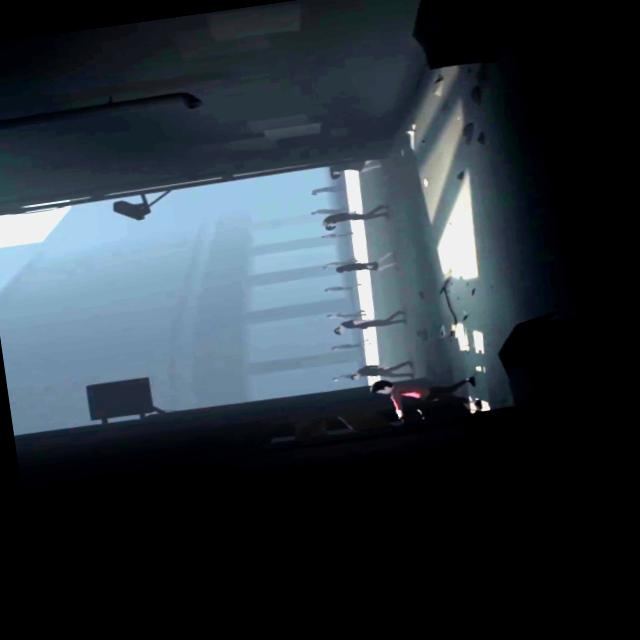boy: (368, 366, 482, 424)
zombie: (332, 307, 408, 335), (320, 203, 390, 232), (348, 359, 413, 384), (332, 252, 397, 276), (326, 159, 383, 180), (329, 338, 374, 352), (324, 282, 362, 294), (308, 185, 344, 197), (318, 231, 352, 241), (330, 374, 347, 382), (320, 263, 332, 270), (308, 210, 320, 216)
